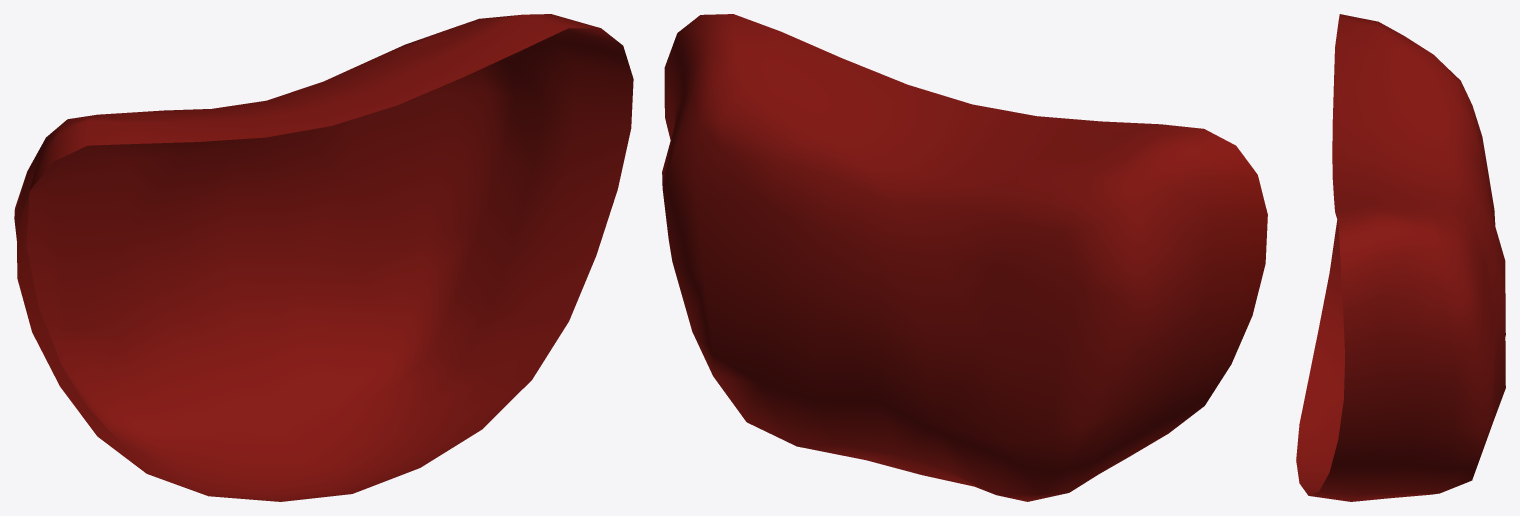
File: innerMouth.obj
3 views of the same model, side by side, from view 1: azimuth 30°, elevation 25°; view 2: azimuth 150°, elevation 25°; view 3: azimuth 270°, elevation 25° (orthographic). The views are drawn at different scales.
Parts seen in each view (by area): view 1: innerMouth Jake; view 2: innerMouth Jake; view 3: innerMouth Jake.
Part boxes in pixels (x1,y1,x2,y2): innerMouth Jake: (14,14,633,501); innerMouth Jake: (662,14,1267,501); innerMouth Jake: (1296,14,1505,501).
Size of the model in its own units: 2 by 1.26 by 0.6784.
